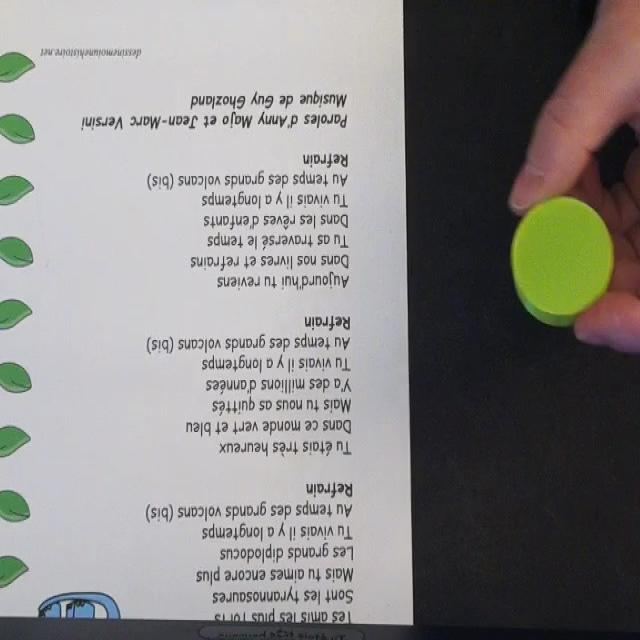round: (511, 196, 615, 327)
